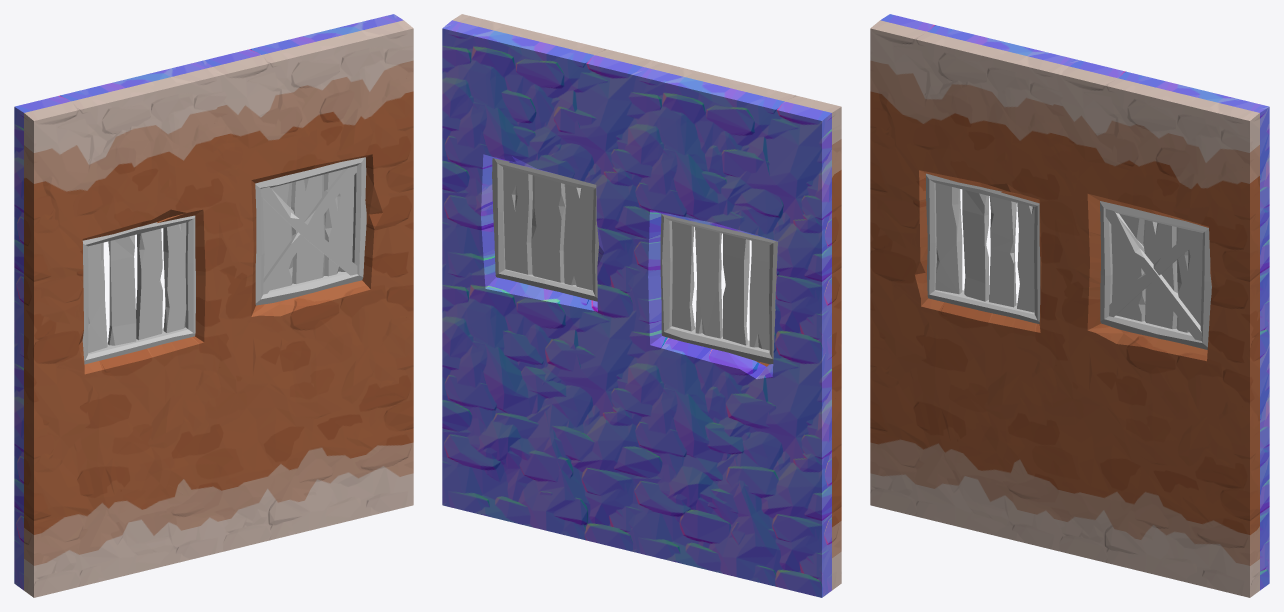
The model's file is SM_Bld_Wall_Window_04.fbx.
The picture shows the model from 3 angles, left to right: view 1: azimuth 30°, elevation 25°; view 2: azimuth 150°, elevation 25°; view 3: azimuth 330°, elevation 25°; orthographic projection.
Visible parts, largest first — view 1: SM_Bld_Wall_Window_04; view 2: SM_Bld_Wall_Window_04; view 3: SM_Bld_Wall_Window_04.
Boxes of the visible parts, left/top/right/bottom form: SM_Bld_Wall_Window_04: left=14, top=14, right=413, bottom=597; SM_Bld_Wall_Window_04: left=442, top=14, right=841, bottom=597; SM_Bld_Wall_Window_04: left=870, top=14, right=1269, bottom=597.
Size of the model in its own units: 250 by 301 by 22.5.
